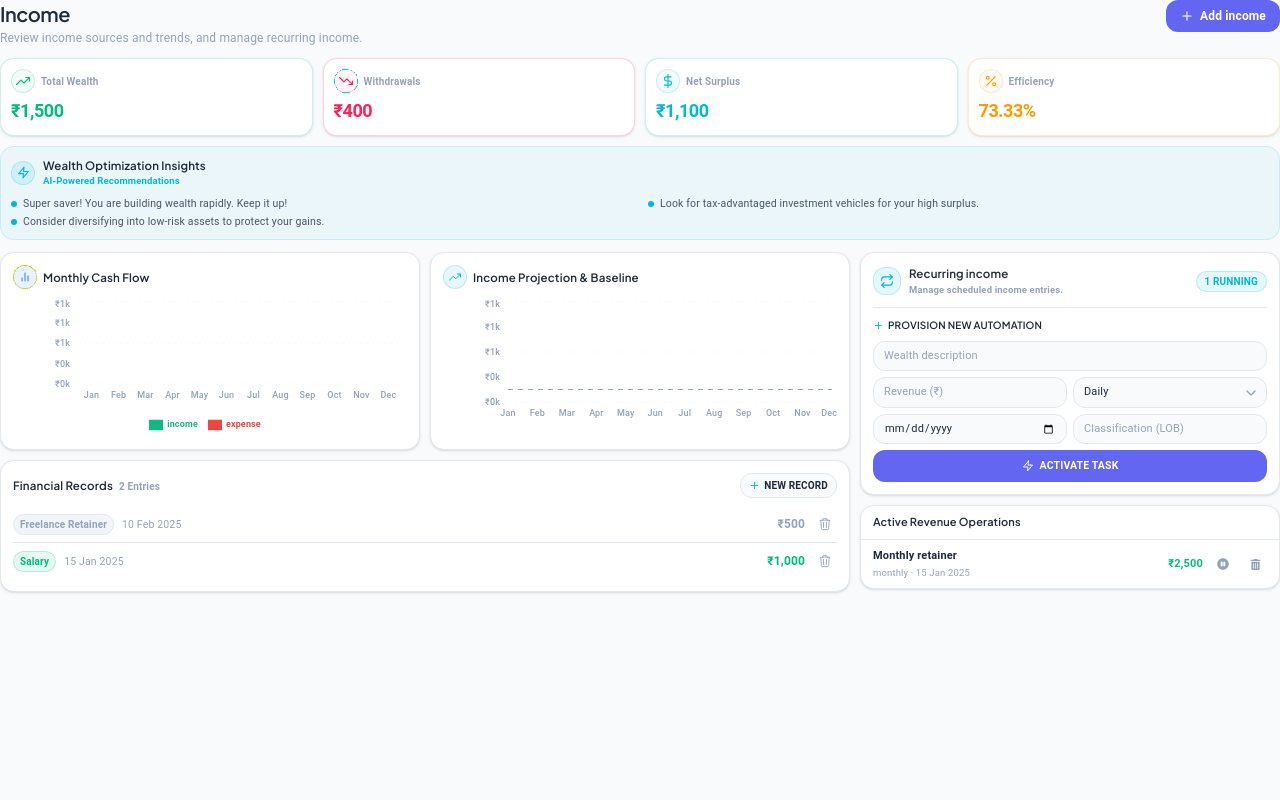
UserIncome › creates an income entry with the exact payload and resets the form
Expected: the text "Total Wealth" is shown, [41,74,98,88]
Click the button "Add income".
click(1223, 16)  # box [1166,0,1279,32]
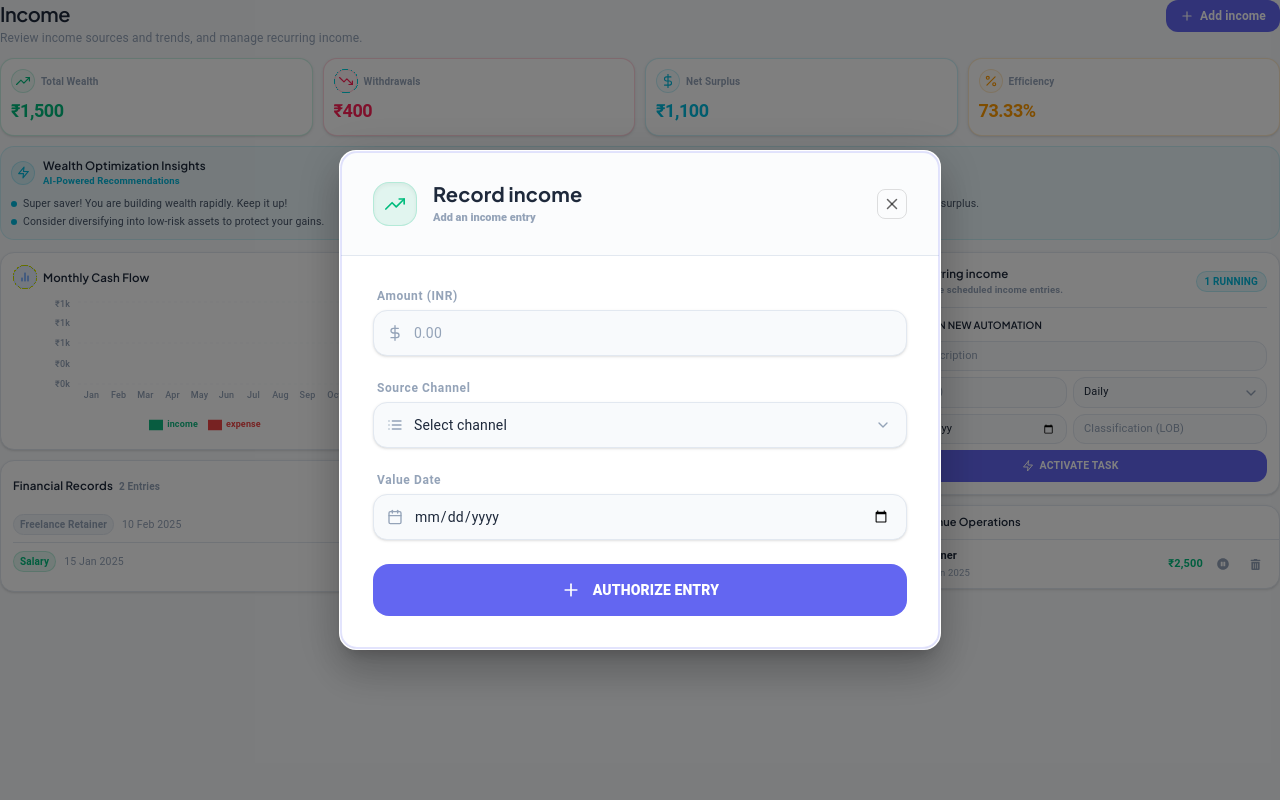
Type "800" into the number field with placeholder "0.00".
click(640, 333); type("800")  # box [373,310,907,356]
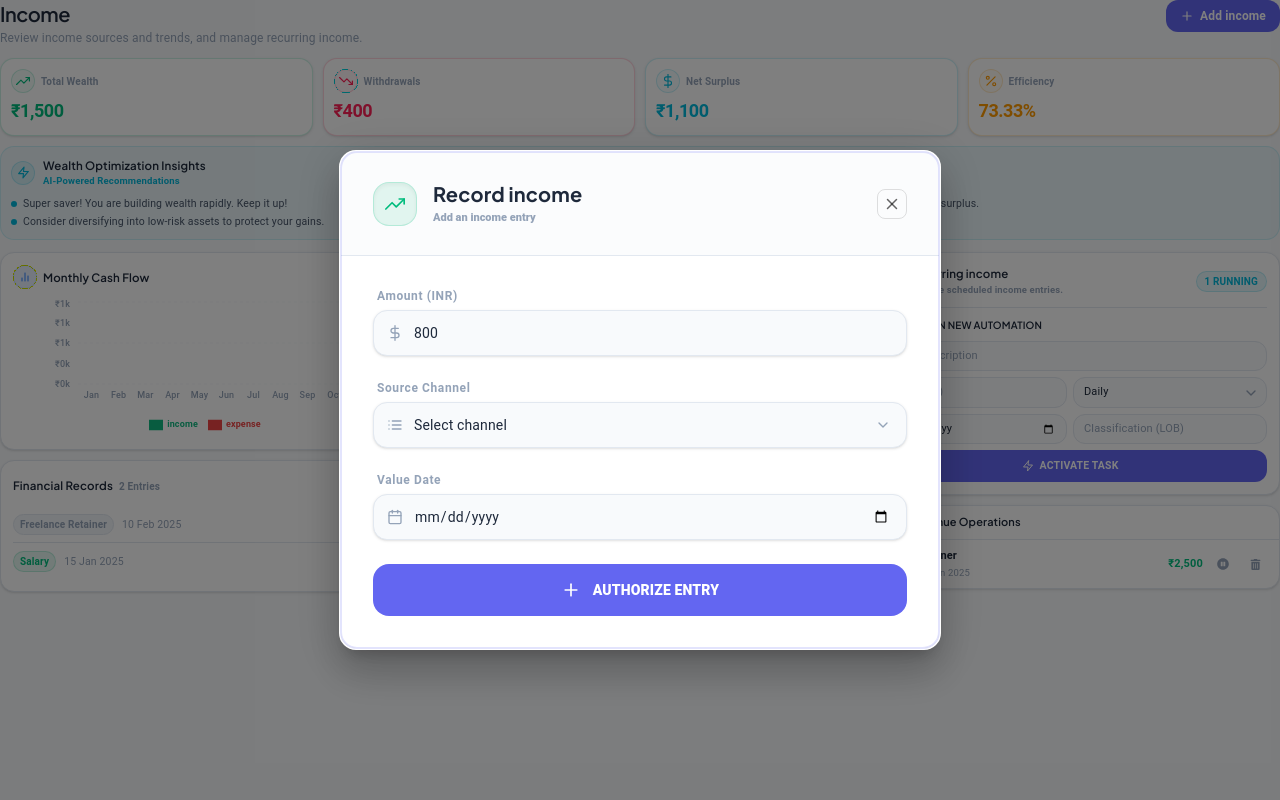
Select "Salary" in the dropdown showing "Select channel" at [640, 425], box [373,402,907,448]
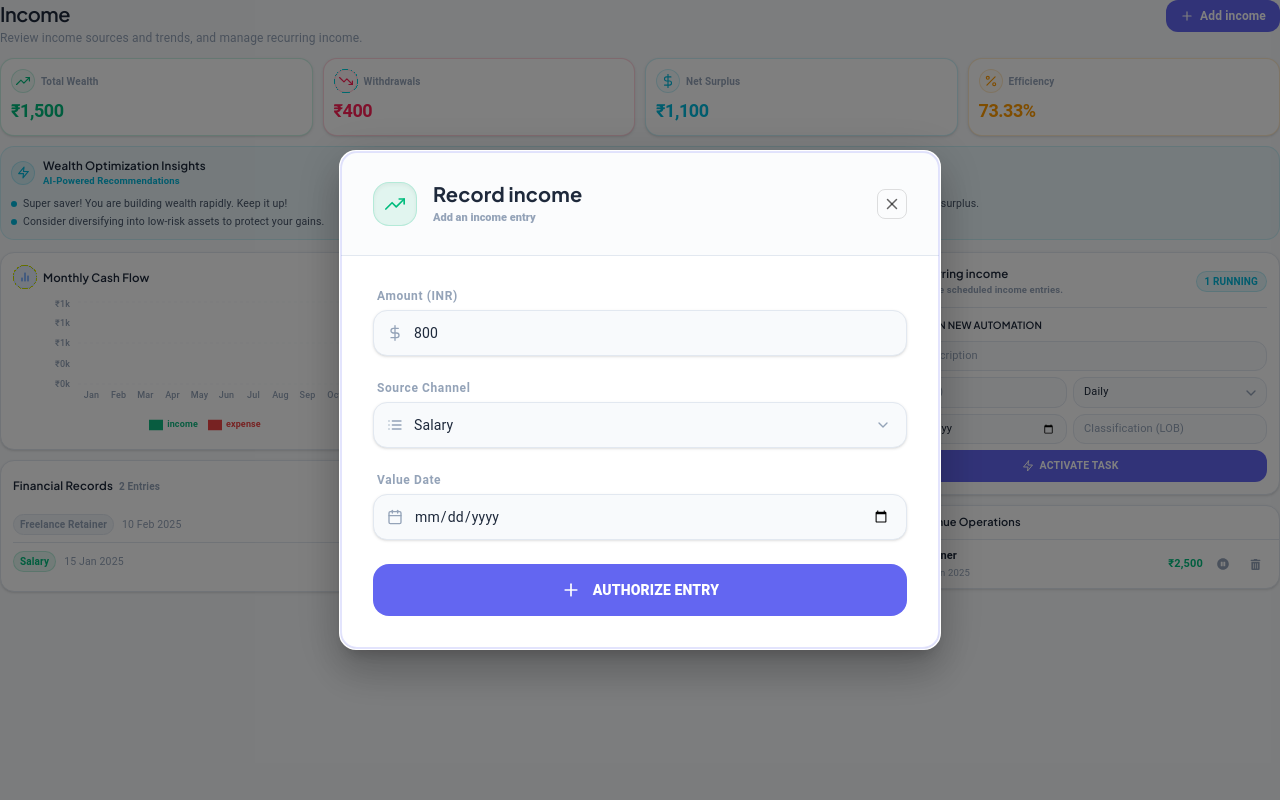
Type "2025-03-01" into the date field.
click(640, 517); type("2025-03-01")  # box [373,494,907,540]
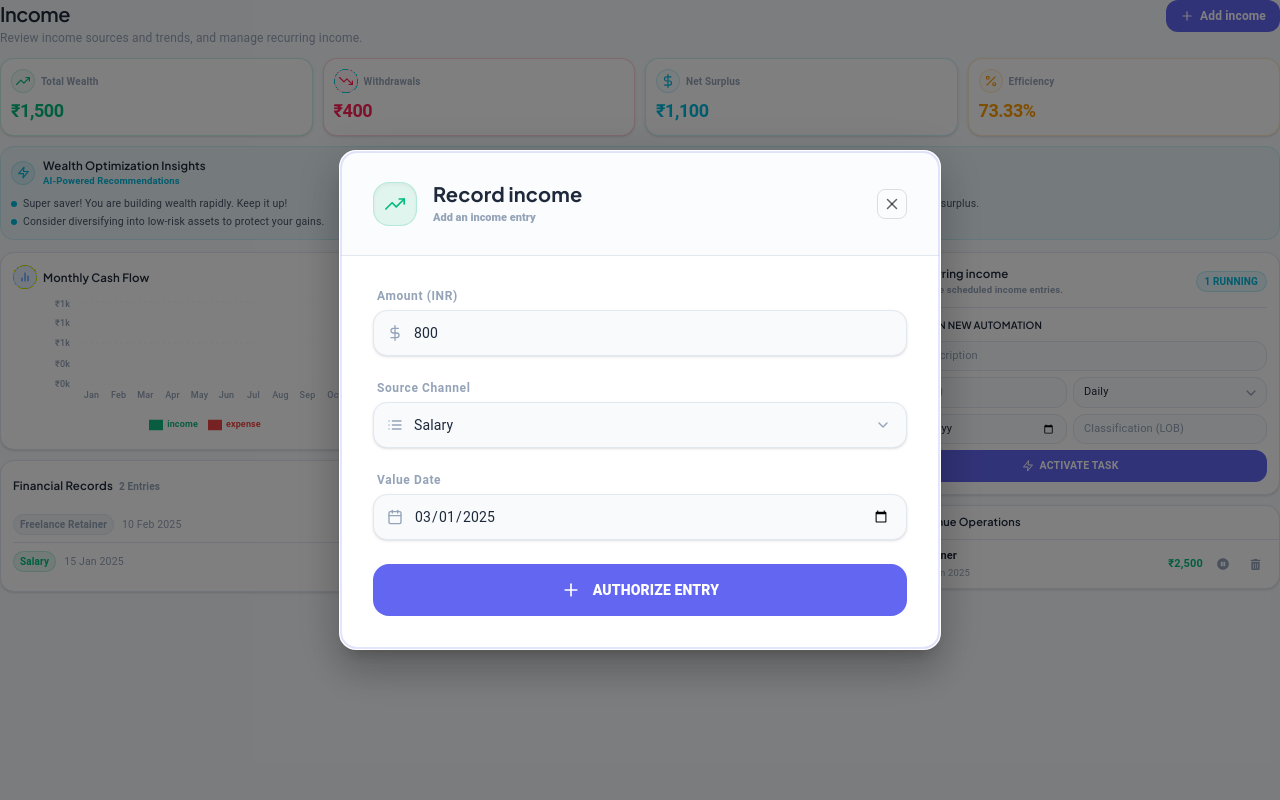
Click the button "AUTHORIZE ENTRY".
click(640, 590)  # box [373,564,907,616]
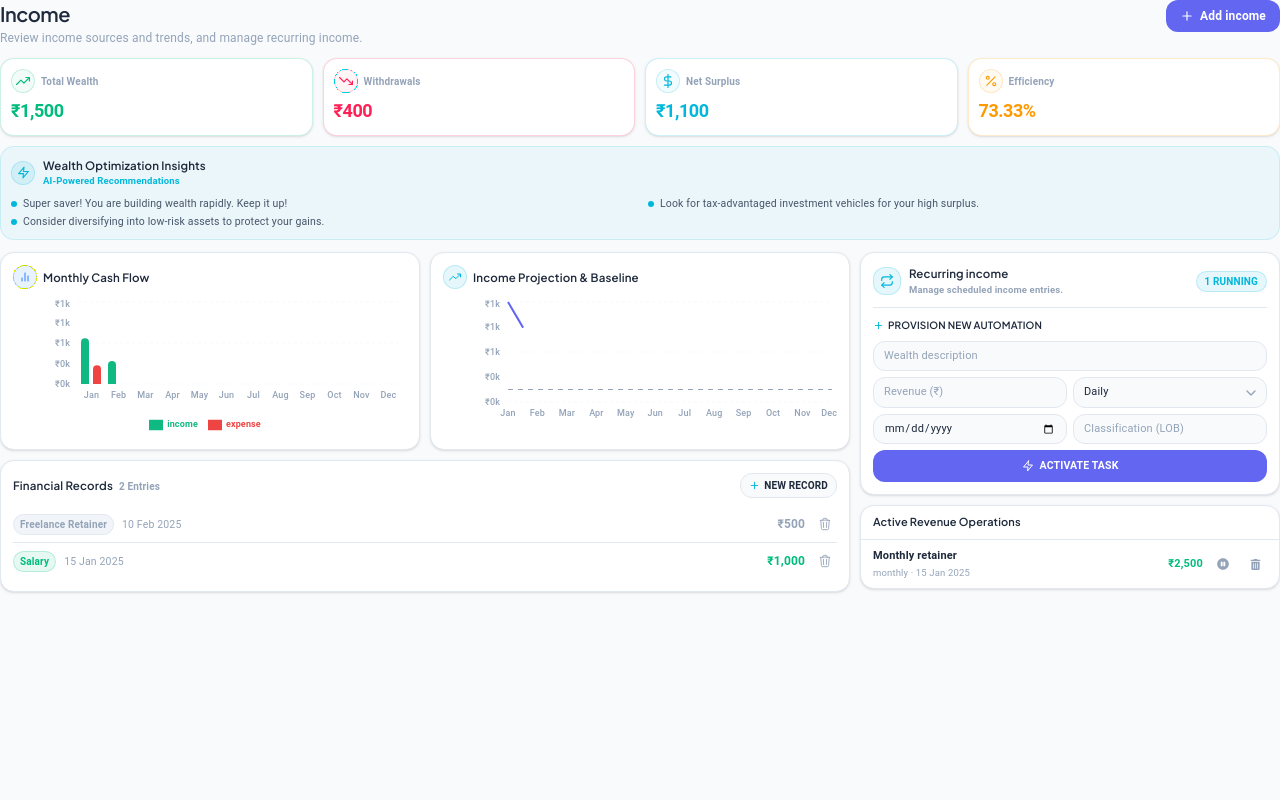
Now the dialog is gone
Success closes the dialog and clears the form for the next entry.
Click the button "Add income".
click(1223, 16)  # box [1166,0,1279,32]
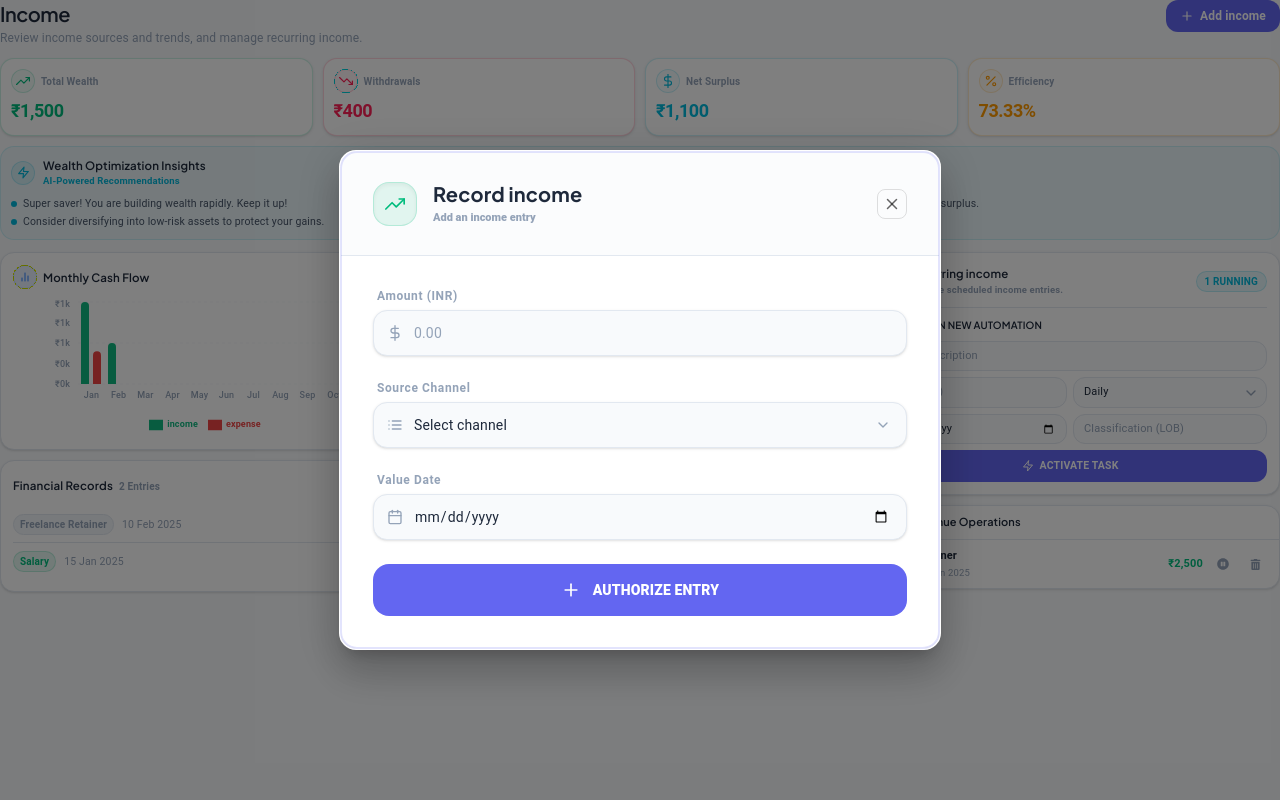
Now the number field with placeholder "0.00" is not empty, box [373,310,907,356]
